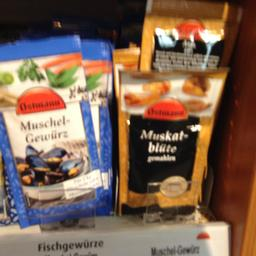spices: (0, 33, 111, 226), (113, 50, 226, 220)
